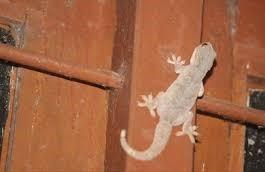lizard: (117, 40, 218, 160)
